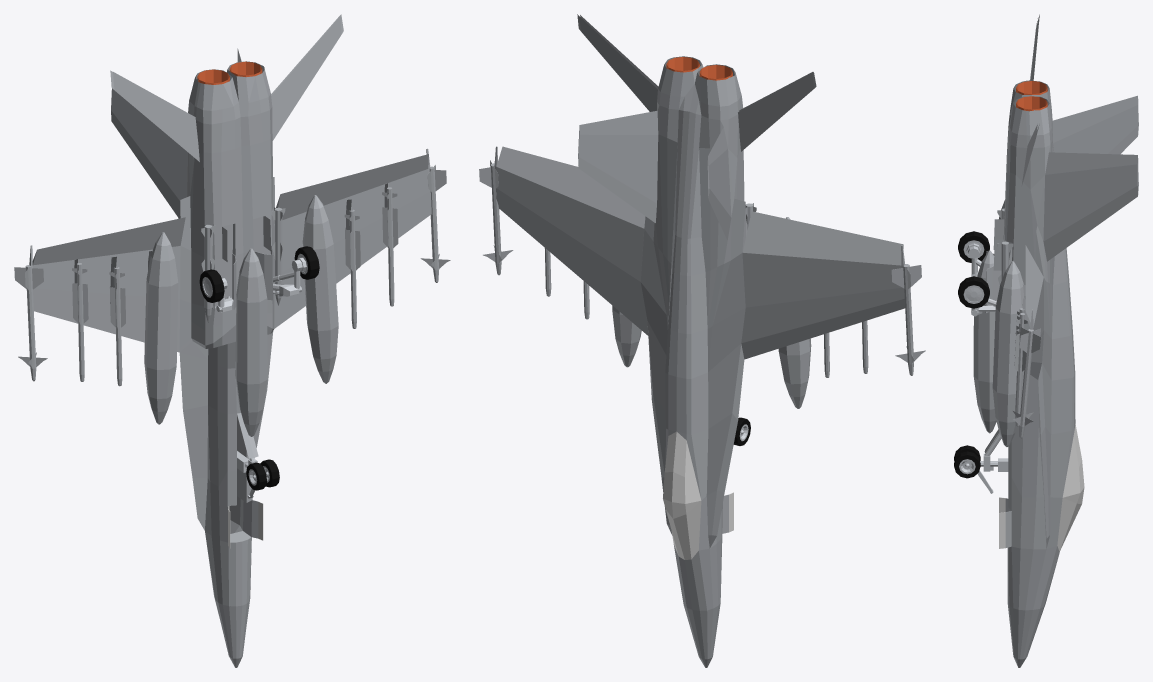
3 views of the same model, side by side, from view 1: azimuth 30°, elevation 25°; view 2: azimuth 150°, elevation 25°; view 3: azimuth 270°, elevation 25° (orthographic). The views are drawn at different scales.
Parts seen in each view (by area): view 1: aircraft; view 2: aircraft; view 3: aircraft.
Part boxes in pixels (bbox=[...]): aircraft: bbox=[14, 14, 450, 667]; aircraft: bbox=[479, 14, 925, 667]; aircraft: bbox=[954, 14, 1138, 667].
Size of the model in its own units: 371 by 519 by 145.
